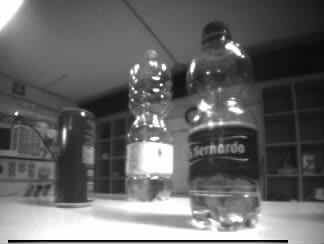Bottle: (185, 21, 262, 232), (123, 49, 175, 201)
Tin can: (54, 107, 95, 207)
